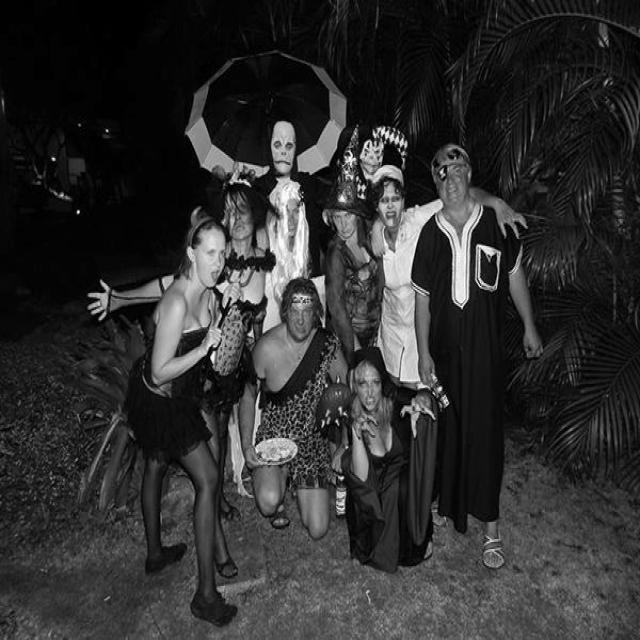person: (408, 143, 545, 584), (114, 212, 258, 626), (245, 273, 351, 552), (364, 144, 439, 391), (341, 356, 416, 576), (318, 151, 375, 340), (248, 91, 309, 193), (265, 174, 302, 280), (213, 179, 261, 256)
